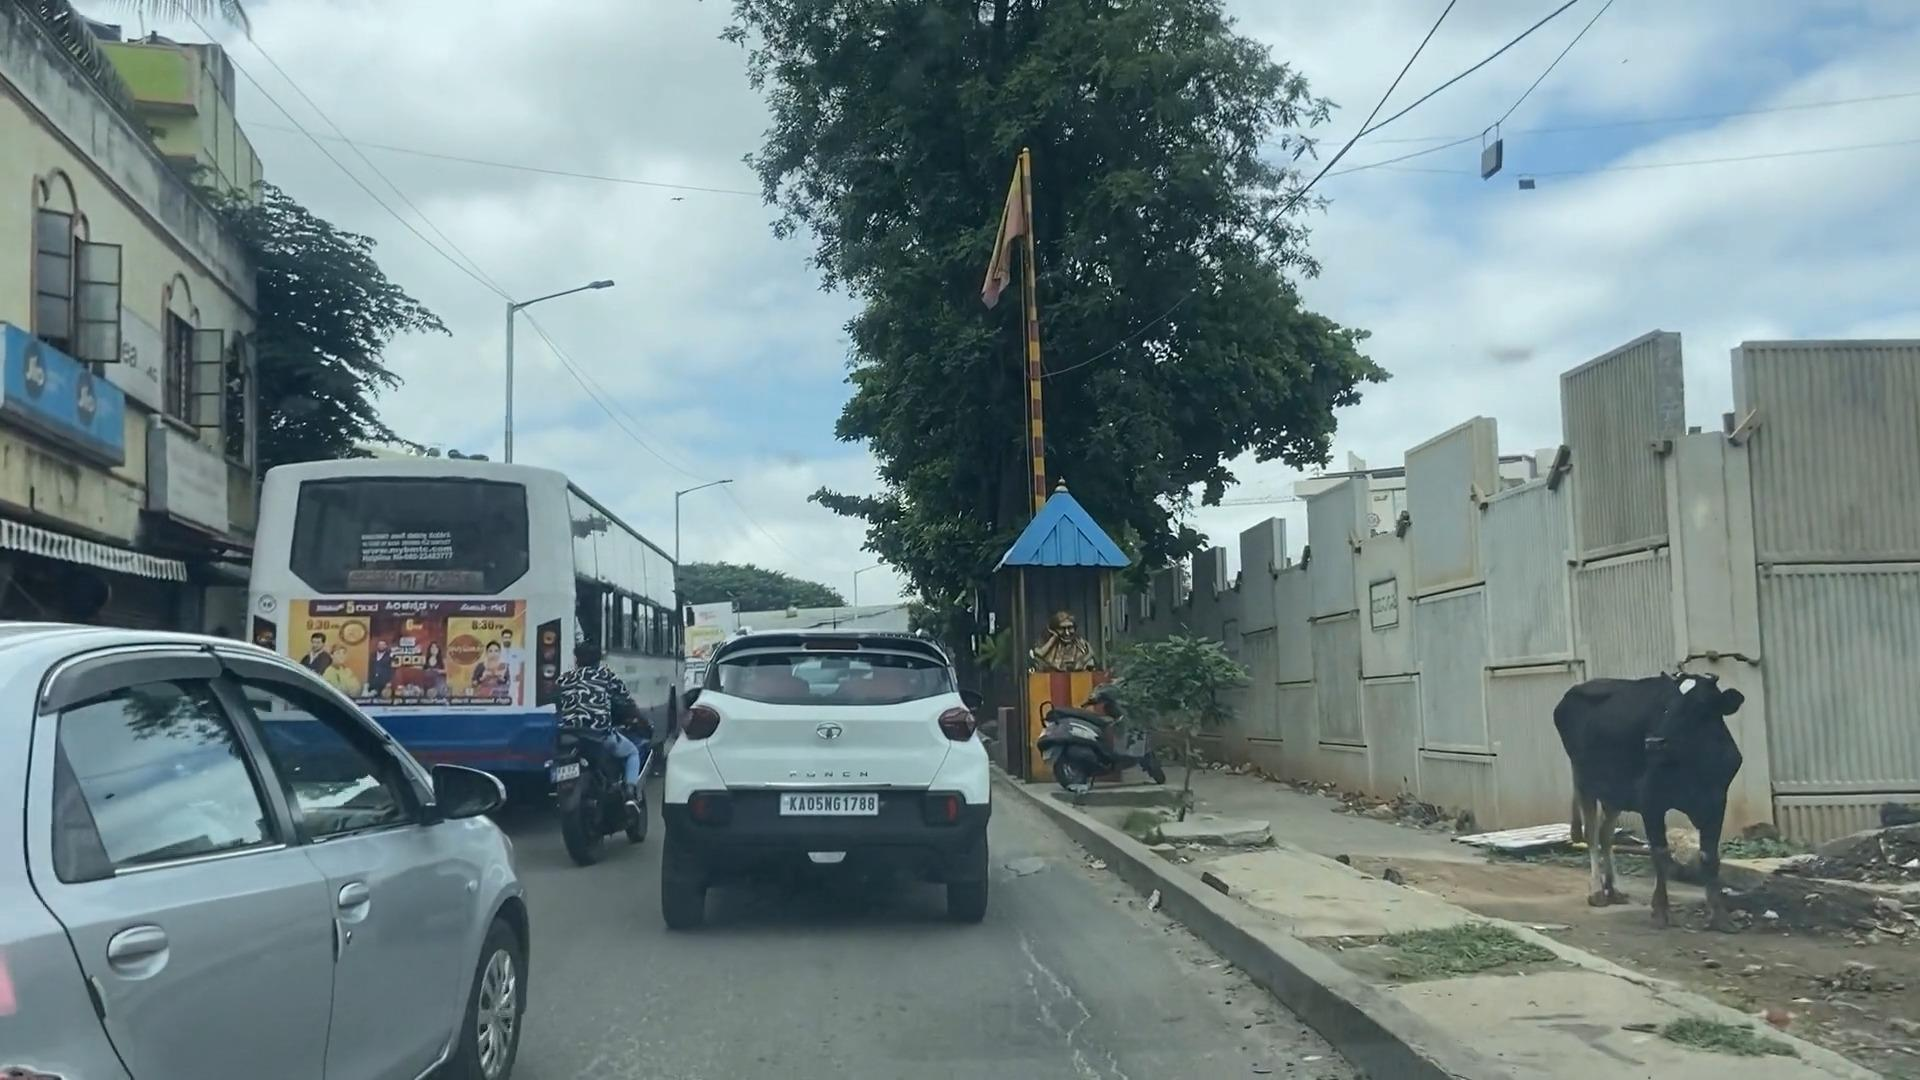LMV: (686, 647, 964, 939), (550, 638, 636, 849)
